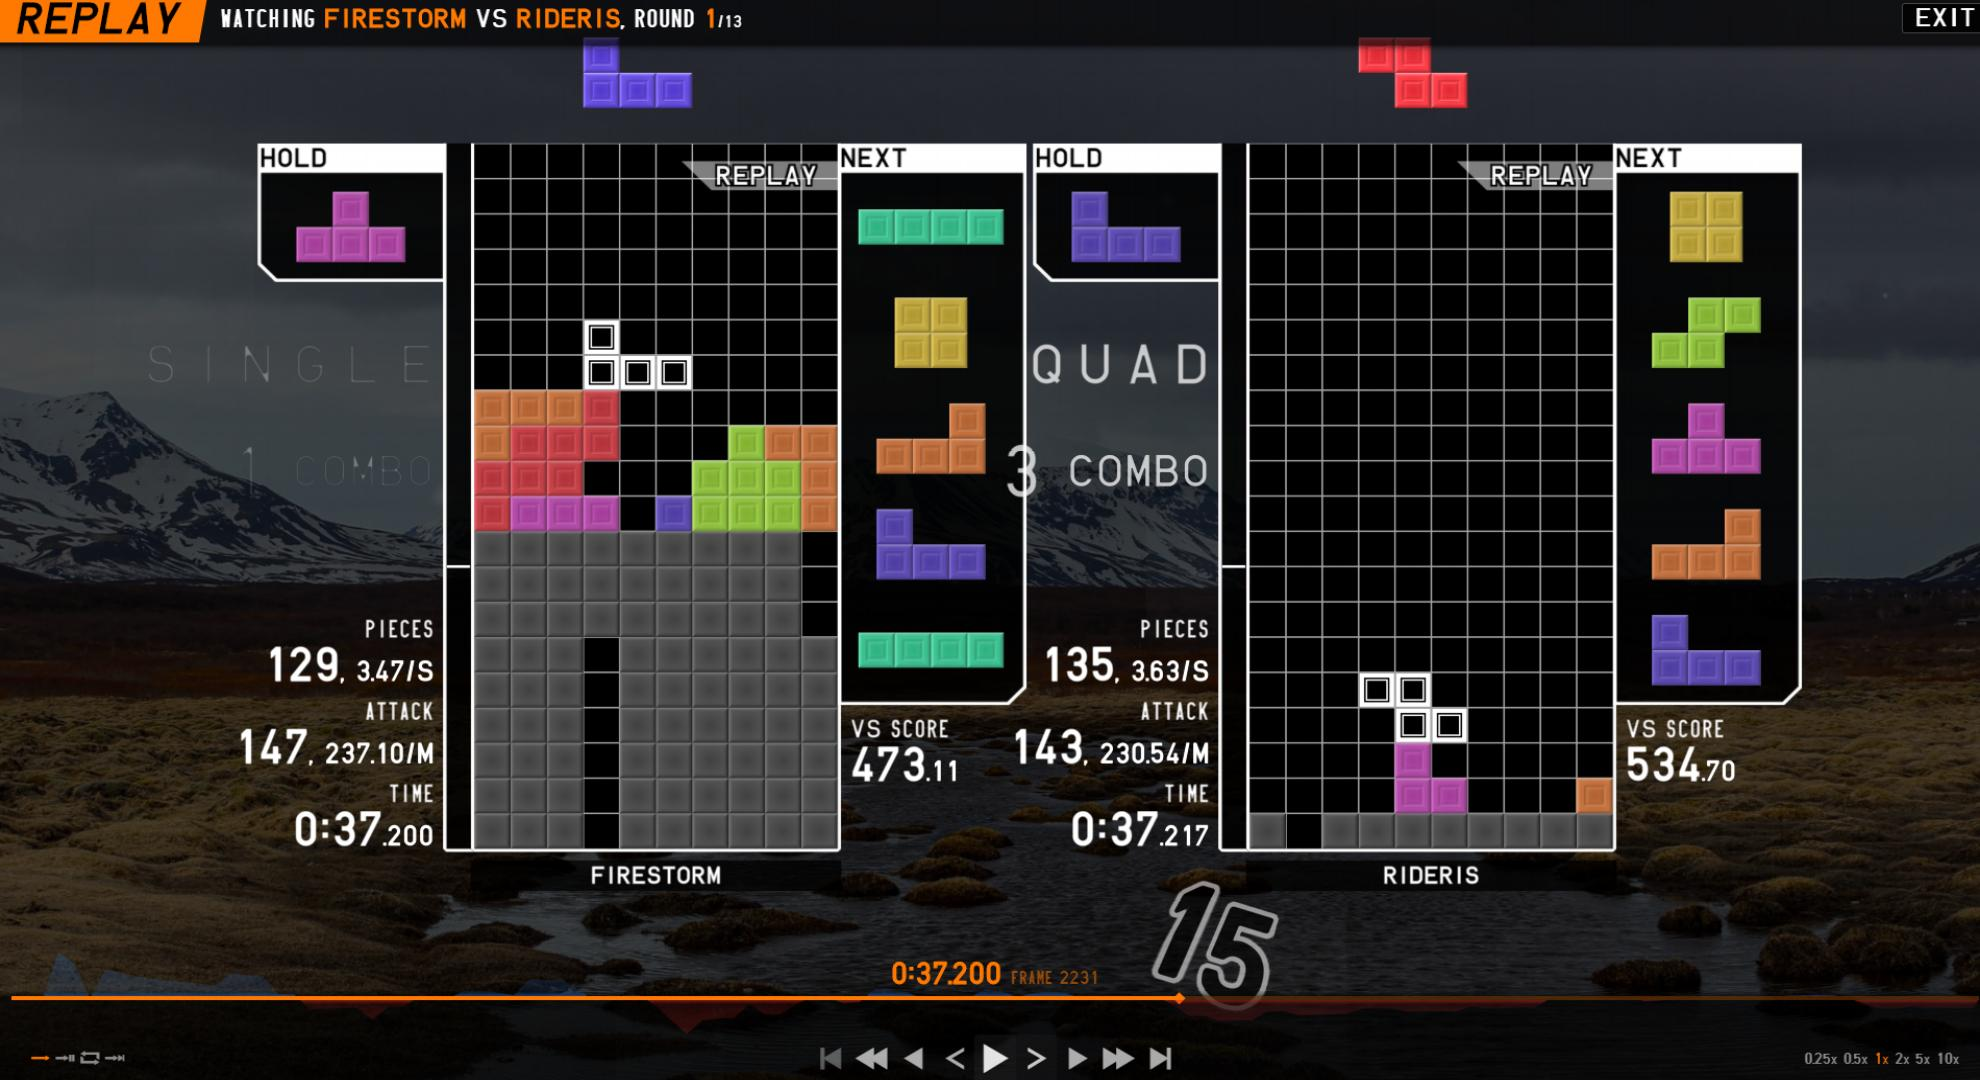tspin: (580, 427, 695, 537)
